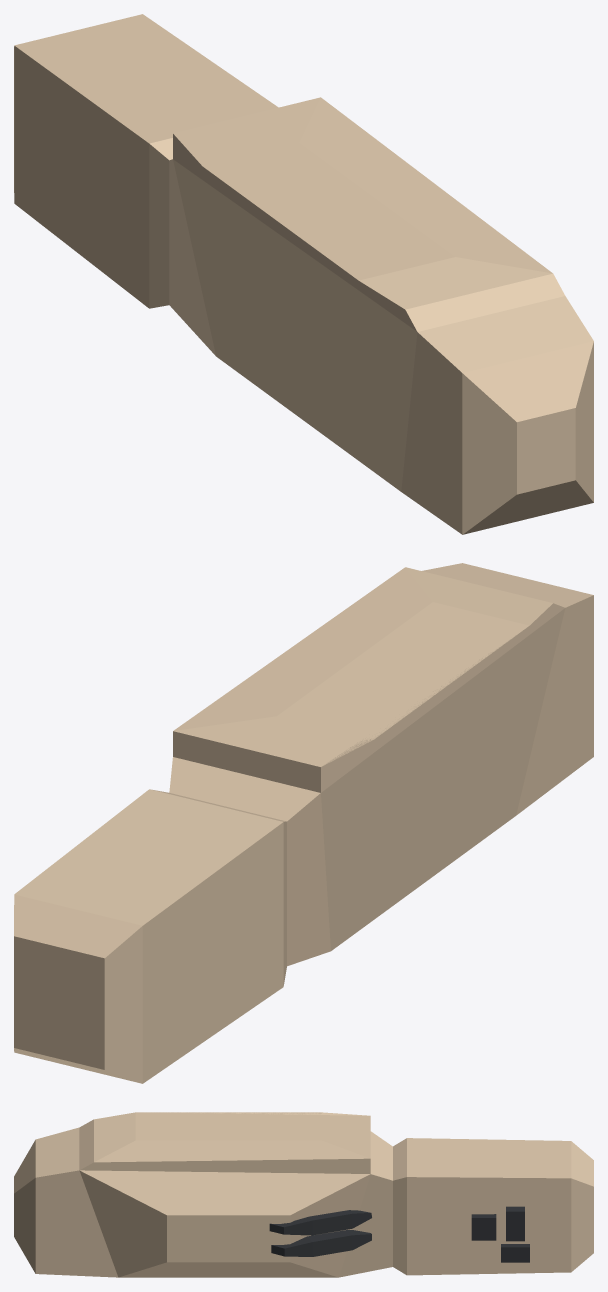
Rendered from antigravity.fbx.
3 renders of one model, top to bottom at view 1: azimuth 30°, elevation 25°; view 2: azimuth 150°, elevation 25°; view 3: azimuth 270°, elevation 25°, orthographic. The views are drawn at different scales.
Visible parts, largest first — view 1: Part_AntiGravity; view 2: Part_AntiGravity; view 3: Part_AntiGravity.
Boxes of the visible parts, <box> form: Part_AntiGravity: <box>14,14,593,534</box>; Part_AntiGravity: <box>14,563,593,1083</box>; Part_AntiGravity: <box>14,1112,593,1277</box>.
Bounding box in the file's own units: 177 × 169 × 720.
